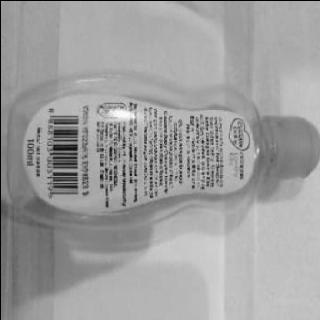objects: (3, 83, 320, 240)
